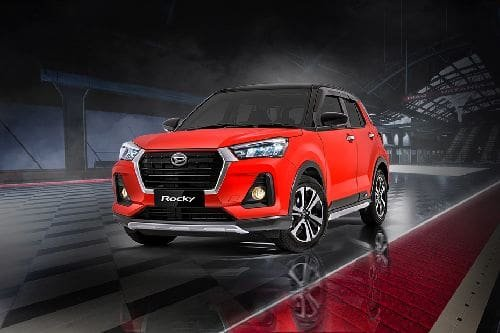mobil: (109, 81, 392, 259)
